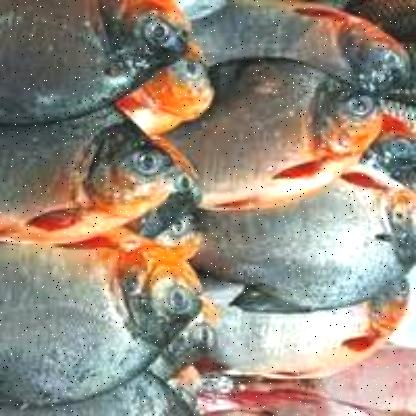ikan-pacu: (0, 237, 204, 393), (172, 58, 382, 202), (0, 108, 170, 238), (0, 0, 190, 96)
